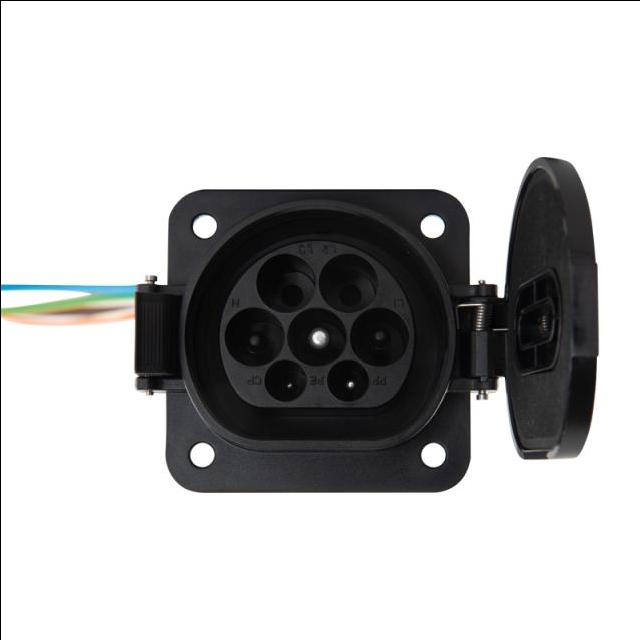inlet: (220, 240, 413, 407)
inlet-above-left: (325, 359, 368, 401)
inlet-above-right: (263, 359, 305, 401)
inlet-below-left: (318, 253, 377, 312)
inlet-below-right: (255, 253, 314, 312)
inlet-center: (287, 307, 345, 366)
inlet-center-left: (348, 306, 408, 367)
inlet-center-right: (224, 306, 284, 367)
